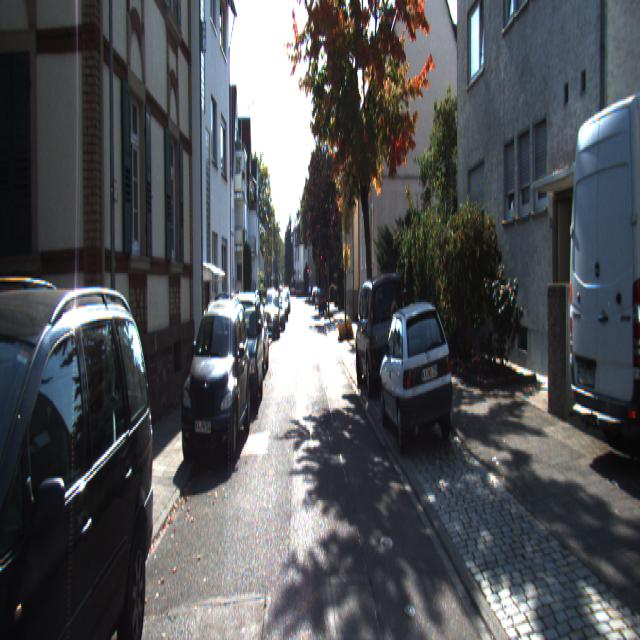Car: (0, 266, 163, 638), (562, 63, 640, 493), (178, 290, 252, 478), (377, 298, 460, 460), (352, 270, 409, 399), (222, 291, 264, 417), (236, 306, 270, 382), (264, 286, 281, 340)
